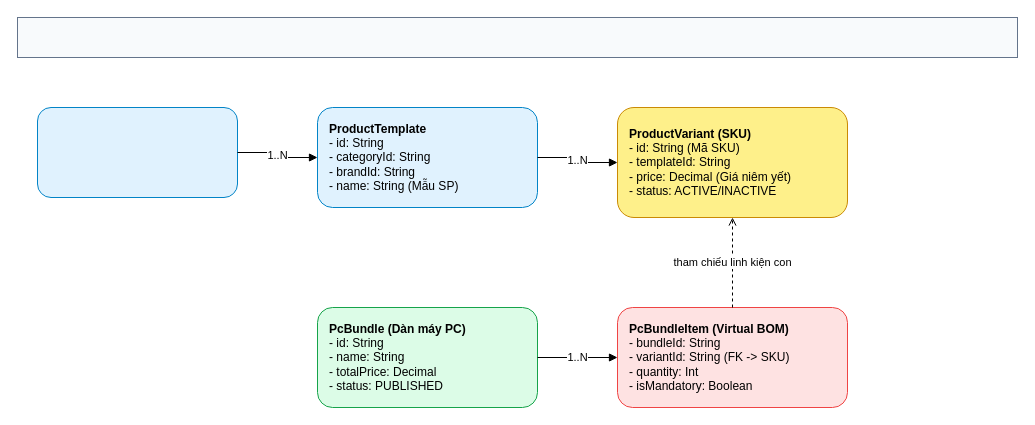
Image size: 1035x425. Some labels were removed from this diagram. Each missing label, with the centre of its shape:
Category - id: String - name: String - slug: String: point 137,152
MÔ HÌNH QUAN HỆ KHÁI NIỆM CATEGORY - PRODUCT TEMPLATE - SKU VÀ VIRTUAL BOM: point 517,37
